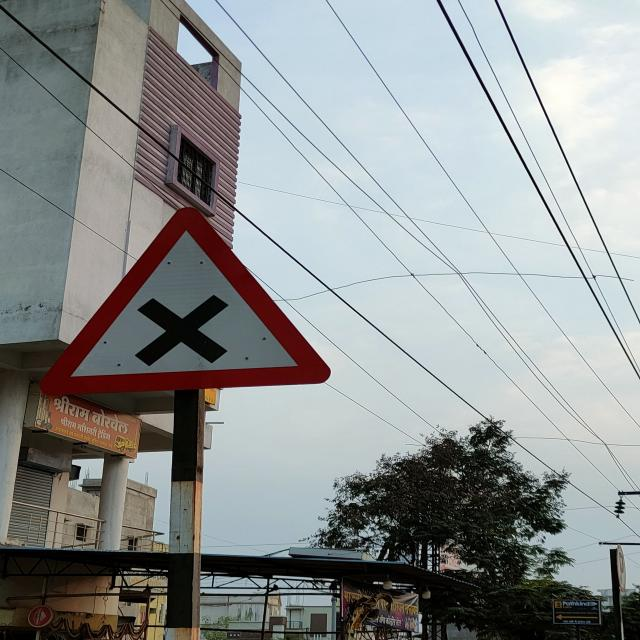cross_road: (44, 206, 332, 392)
